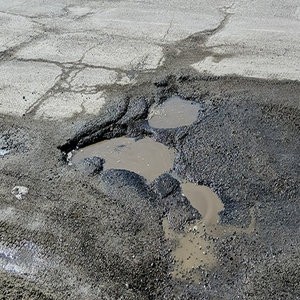pothole: (64, 129, 187, 186), (135, 86, 215, 131)
